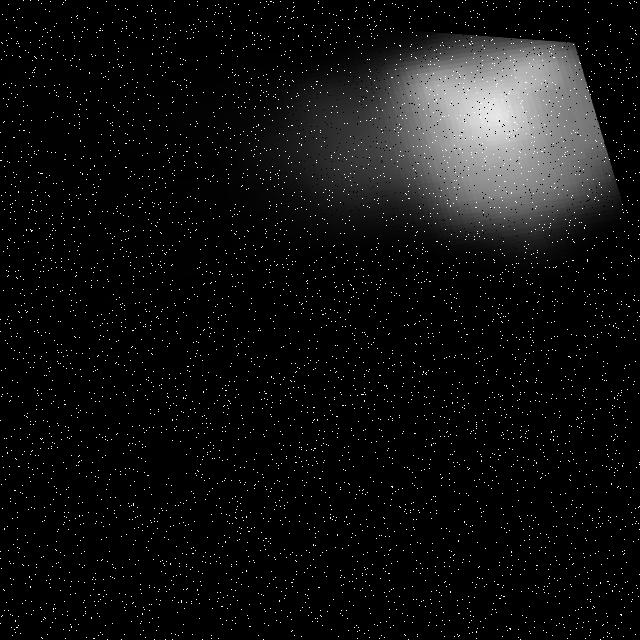person: (168, 11, 640, 349)
